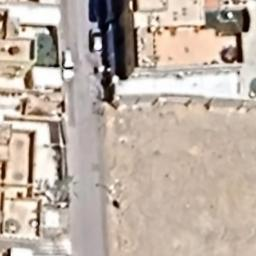sedan: (86, 28, 106, 54)
van: (58, 46, 76, 84)
